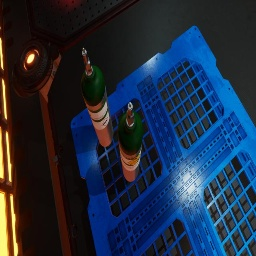0: (81, 48, 114, 147), (118, 102, 143, 182)
FirstAidBox ,: (16, 243, 18, 243)
